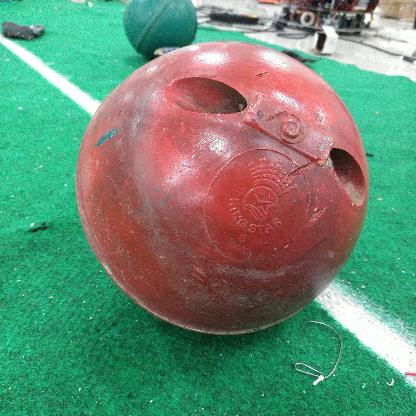green_buoy: (124, 0, 197, 44)
red_buoy: (74, 41, 372, 338)
